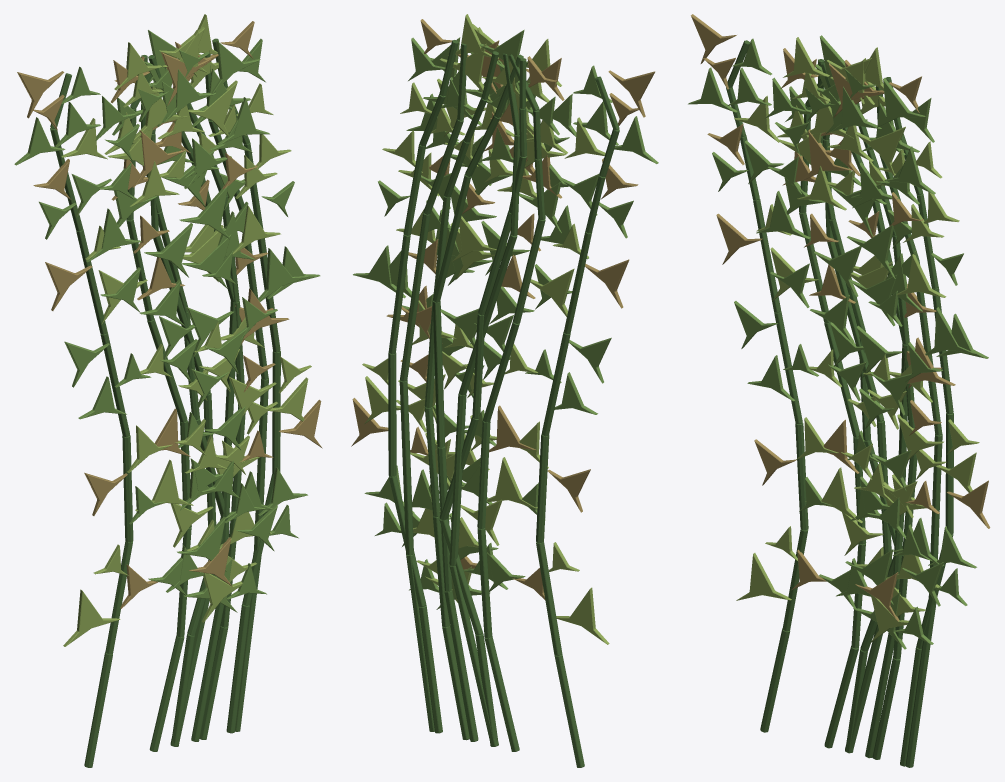
Rendered from runtime.glb.
The picture shows the model from 3 angles, left to right: view 1: azimuth 30°, elevation 25°; view 2: azimuth 150°, elevation 25°; view 3: azimuth 330°, elevation 25°; orthographic projection.
Visible parts, largest first — view 1: falkenwacht-wall-ivy-v06_nocol; view 2: falkenwacht-wall-ivy-v06_nocol; view 3: falkenwacht-wall-ivy-v06_nocol.
Boxes of the visible parts, x1=… form: falkenwacht-wall-ivy-v06_nocol: x1=14, y1=14, x2=322, y2=767; falkenwacht-wall-ivy-v06_nocol: x1=351, y1=14, x2=658, y2=767; falkenwacht-wall-ivy-v06_nocol: x1=688, y1=14, x2=990, y2=767.
Bounding box in the file's own units: 1.83 × 4.14 × 0.0866.
